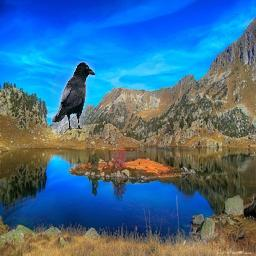Crow: (51, 61, 95, 129)
